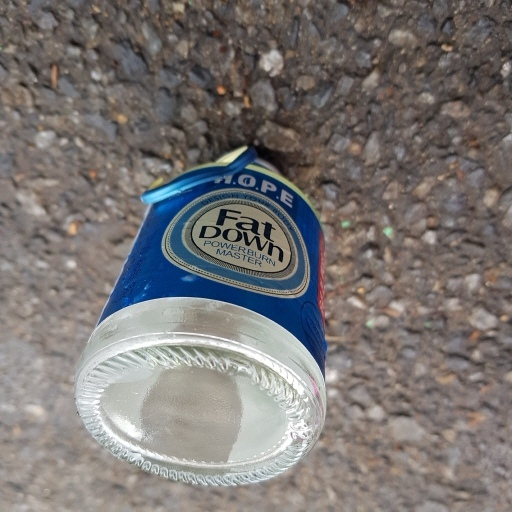Glass_4: (69, 146, 337, 488)
